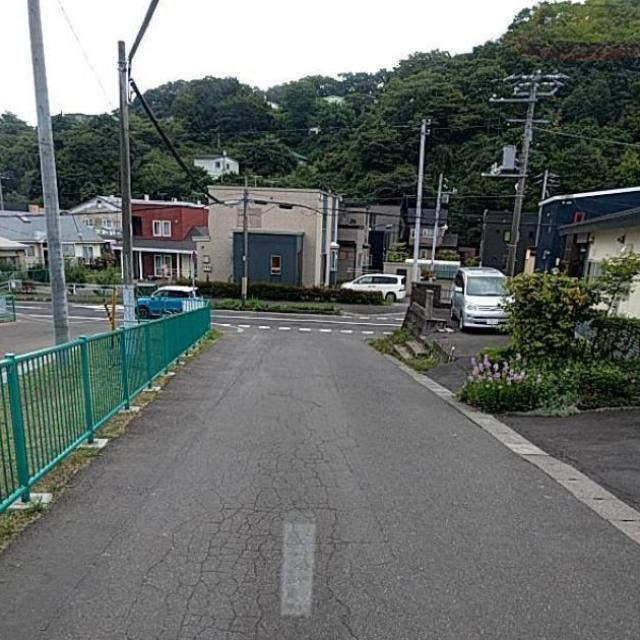Retak Buaya: (120, 437, 364, 640)
